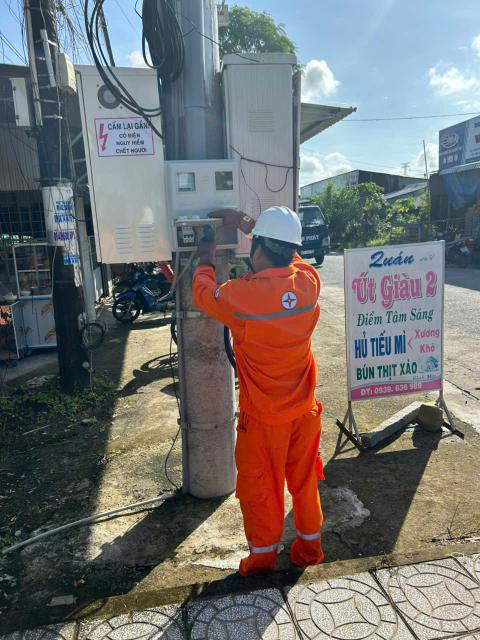gloves: (174, 221, 218, 273), (197, 200, 256, 232)
helmet: (249, 204, 305, 246)
